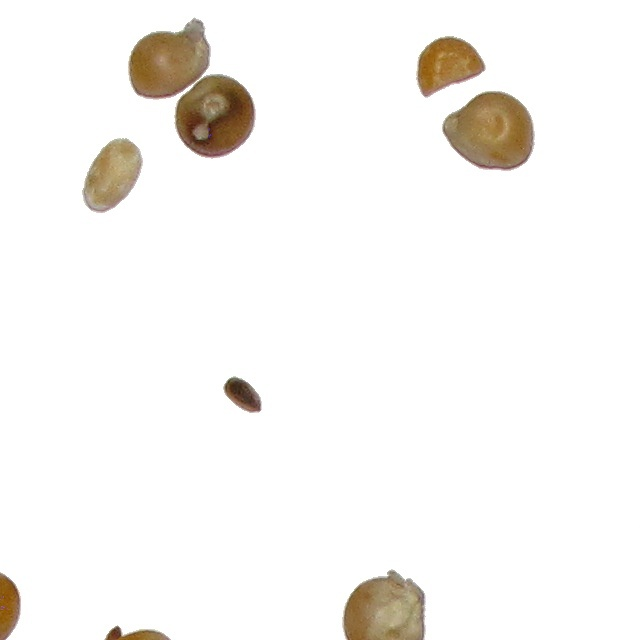buckwheat: (222, 375, 263, 414)
mais: (441, 90, 536, 172), (173, 73, 257, 160), (127, 16, 212, 101), (341, 568, 427, 640), (415, 35, 487, 99), (95, 624, 184, 640)
other: (81, 137, 144, 214)
